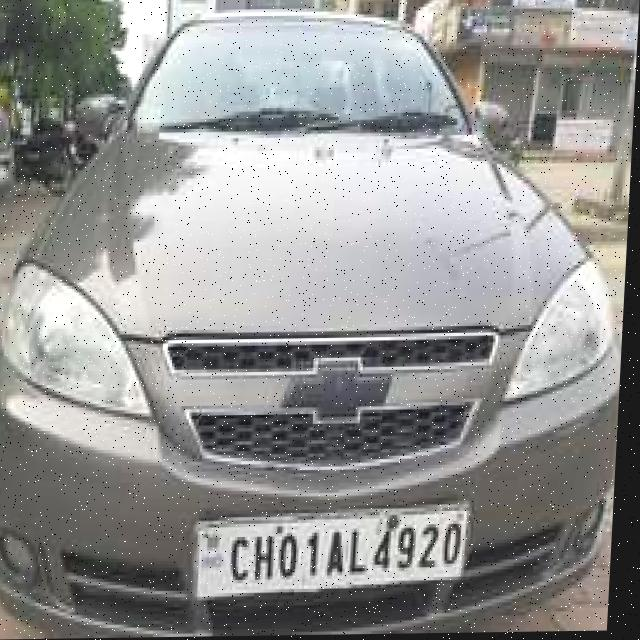plate: (199, 504, 475, 603)
